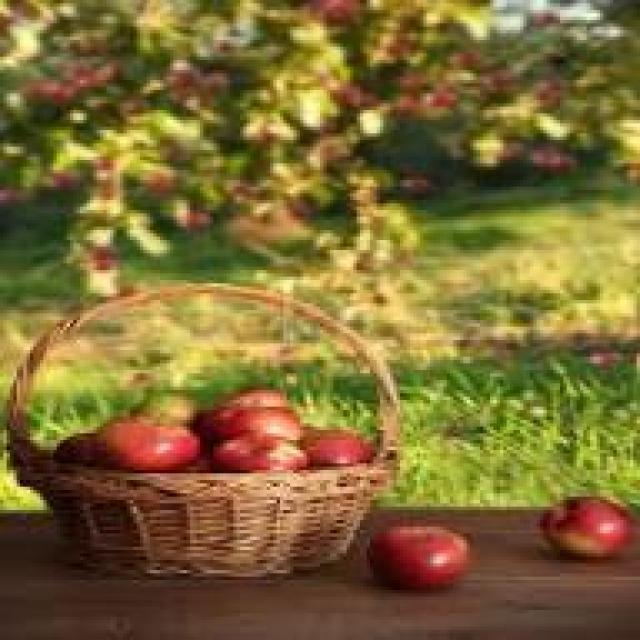apple: (360, 524, 470, 584), (86, 410, 196, 467), (547, 497, 630, 560), (203, 437, 307, 480), (203, 404, 310, 444), (296, 427, 376, 473), (126, 390, 196, 433), (214, 383, 284, 420)
